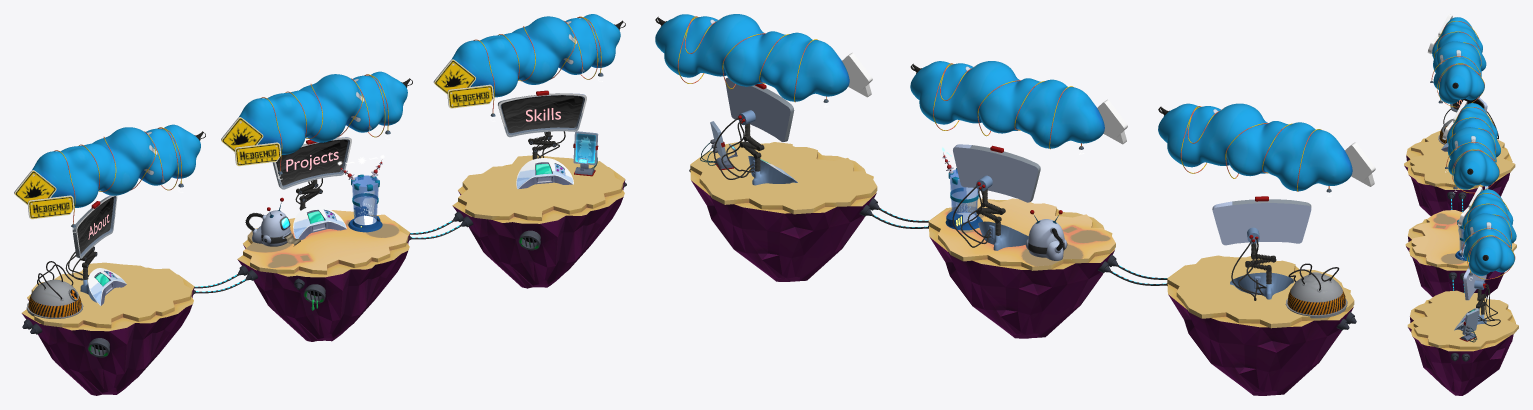
File: Home3D-BH3MjcbN.glb
3 renders of one model, left to right at view 1: azimuth 30°, elevation 25°; view 2: azimuth 150°, elevation 25°; view 3: azimuth 270°, elevation 25°, orthographic. The views are drawn at different scales.
Parts seen in each view (by area): view 1: Object_20, Object_2, Object_2.002, Object_2.001, Object_6, Object_13.001, Object_13, Object_13.002, Object_14, Object_21, Object_23, Object_25 (+5 smaller); view 2: Object_20, Object_2.001, Object_2, Object_2.002, Object_13.002, Object_6, Object_13, Object_13.001, Object_14, Object_23, Object_25, Object_18 (+1 smaller); view 3: Object_20, Object_2.002, Object_2, Object_2.001, Object_6, Object_13.001, Object_4.002, Object_4.001, Object_4, Object_16, Object_21, Object_13.002 (+3 smaller).
Part boxes in pixels (x1,y1,x2,y2): Object_20: (21,155,625,395); Object_2: (221,71,412,179); Object_2.002: (14,124,205,232); Object_2.001: (433,14,625,121); Object_6: (243,210,407,270); Object_13.001: (498,90,586,189); Object_13: (272,137,351,239); Object_13.002: (65,195,126,305); Object_14: (26,261,83,318); Object_21: (22,182,626,357); Object_23: (245,197,300,246); Object_25: (340,160,382,232); Object_20: (690,141,1354,395); Object_2.001: (655,14,872,107); Object_2: (910,61,1127,154); Object_2.002: (1158,103,1375,196); Object_13.002: (1212,196,1311,300); Object_6: (929,198,1115,266); Object_13: (952,144,1040,250); Object_13.001: (713,77,797,185); Object_14: (1285,263,1347,318); Object_23: (1025,210,1067,260); Object_25: (942,153,982,230); Object_18: (949,169,978,222); Object_20: (1404,130,1518,395); Object_2.002: (1427,14,1486,108); Object_2: (1442,100,1500,193); Object_2.001: (1458,186,1516,280); Object_6: (1411,210,1516,265); Object_13.001: (1454,267,1500,330); Object_4.002: (1431,21,1484,107); Object_4.001: (1461,193,1515,279); Object_4: (1446,107,1499,193); Object_16: (1459,309,1479,342); Object_21: (1447,191,1469,361); Object_13.002: (1441,97,1498,151).
Size of what is drawn, in the model's own units: 22.87 by 8.9 by 4.7.
23 materials, 17 textured.
